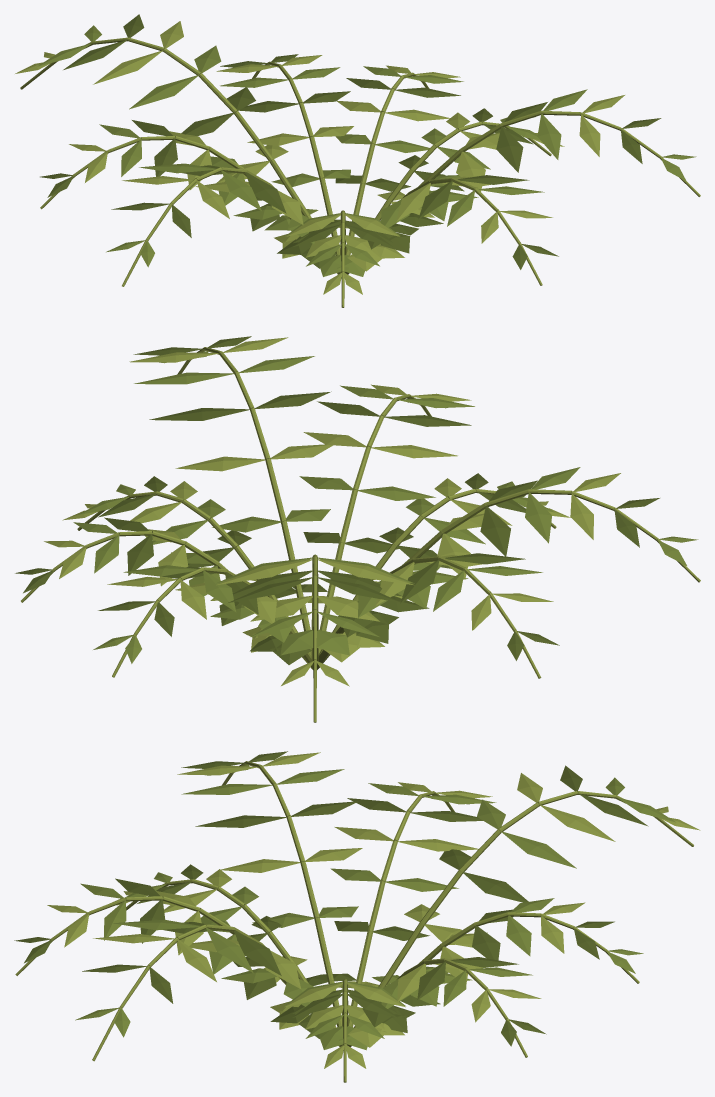
The model's file is fern.glb.
3 renders of one model, top to bottom at view 1: azimuth 30°, elevation 25°; view 2: azimuth 150°, elevation 25°; view 3: azimuth 270°, elevation 25°, orthographic. The views are drawn at different scales.
Parts seen in each view (by area): view 1: fern; view 2: fern; view 3: fern.
Boxes of the visible parts, <box> form: fern: <box>15,14,700,307</box>; fern: <box>15,336,700,722</box>; fern: <box>14,751,700,1082</box>.
Size of the model in its own units: 2.31 by 0.7748 by 2.38.
